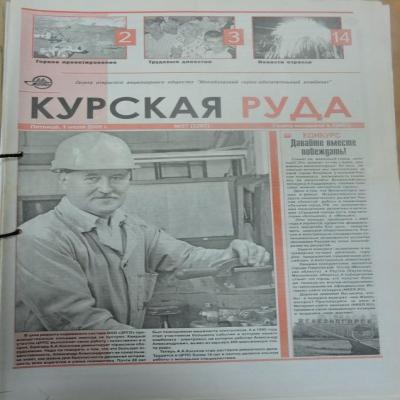printed_products: (12, 8, 400, 400)
